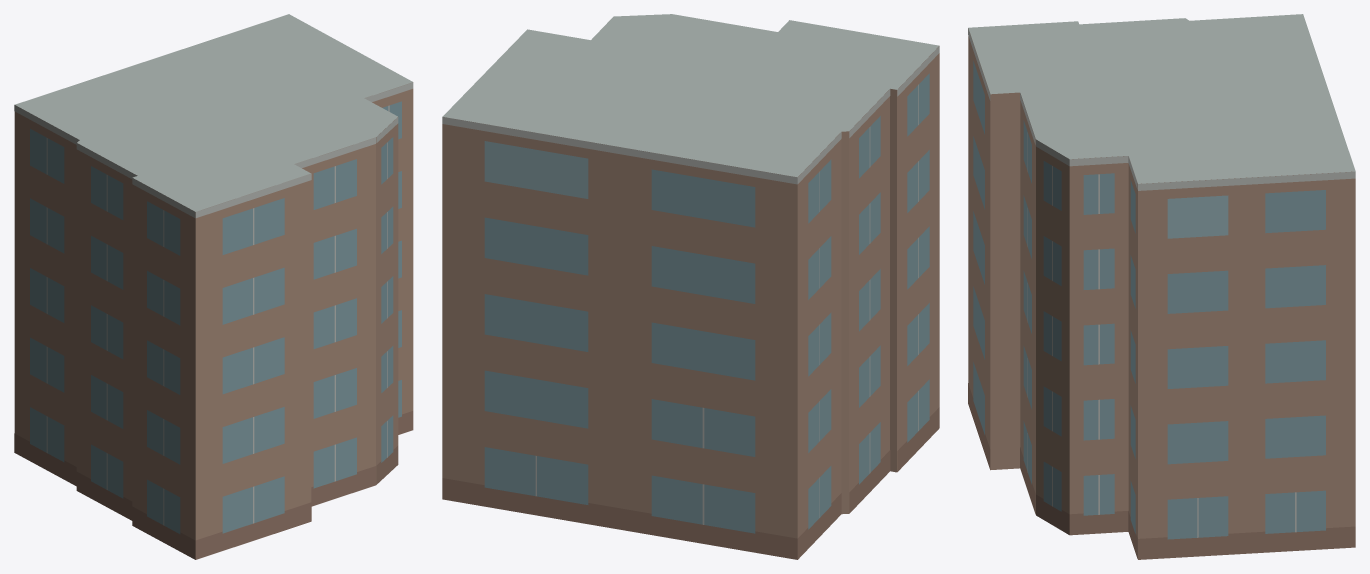
Rendered from survey-upis-32540294.glb.
3 renders of one model, left to right at view 1: azimuth 30°, elevation 25°; view 2: azimuth 150°, elevation 25°; view 3: azimuth 270°, elevation 25°, orthographic. The views are drawn at different scales.
Parts seen in each view (by area): view 1: survey-upis-32540294.tmp; view 2: survey-upis-32540294.tmp; view 3: survey-upis-32540294.tmp.
Part boxes in pixels (x1,y1,x2,y2): survey-upis-32540294.tmp: [14, 14, 413, 559]; survey-upis-32540294.tmp: [442, 14, 939, 559]; survey-upis-32540294.tmp: [968, 14, 1355, 559].
Bounding box in the file's own units: 12.61 × 13 × 12.16.
